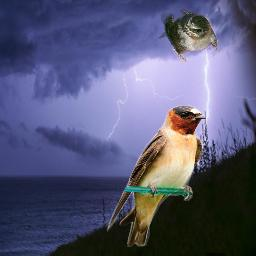Swallow: (107, 105, 207, 247), (157, 9, 218, 64)
